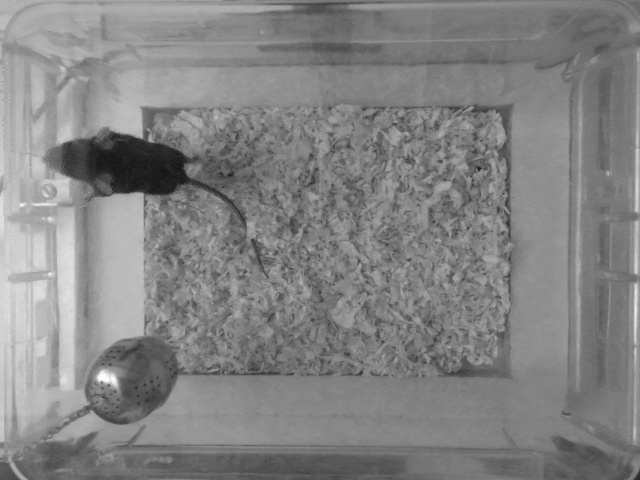mice: (47, 126, 278, 280)
